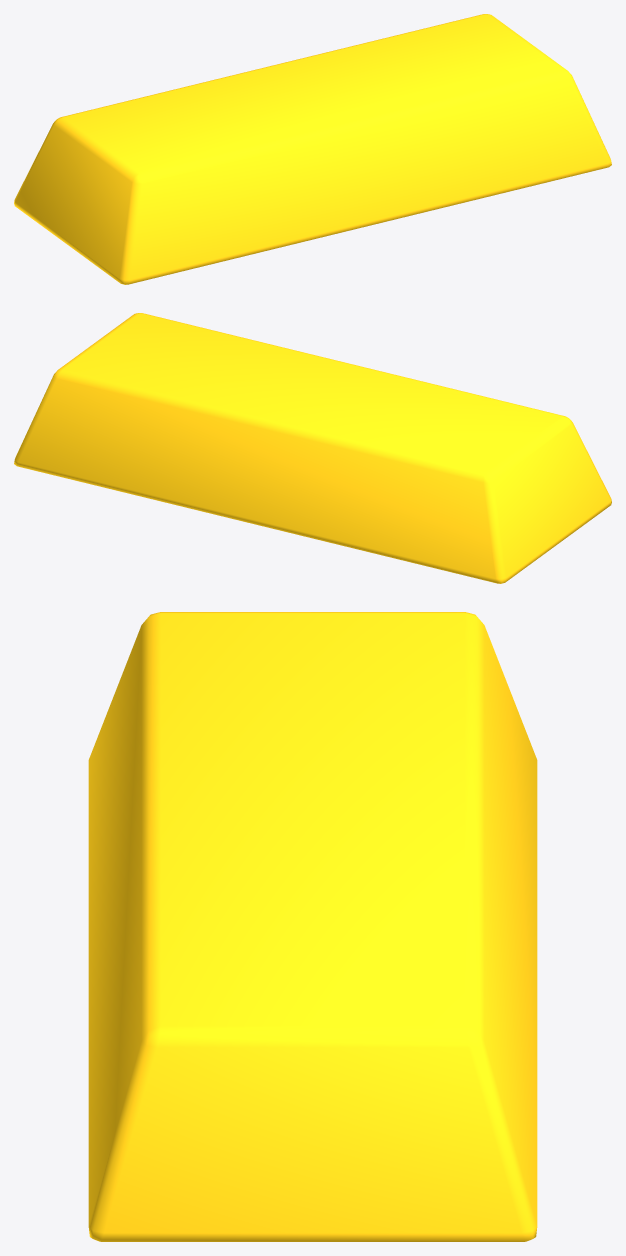
The model's file is cf7ee9d6-5595-463f-a170-77cdc496fbab.glb.
3 views of the same model, one above another, from view 1: azimuth 30°, elevation 25°; view 2: azimuth 150°, elevation 25°; view 3: azimuth 270°, elevation 25° (orthographic). The views are drawn at different scales.
Parts seen in each view (by area): view 1: SingleGoldBar; view 2: SingleGoldBar; view 3: SingleGoldBar.
Boxes of the visible parts, left/top/right/bottom form: SingleGoldBar: left=14, top=14, right=611, bottom=284; SingleGoldBar: left=14, top=313, right=611, bottom=583; SingleGoldBar: left=88, top=612, right=537, bottom=1241.
Bounding box in the file's own units: 0.3718 × 0.0675 × 0.1471.
Materials: 1 (1 with a texture image).
